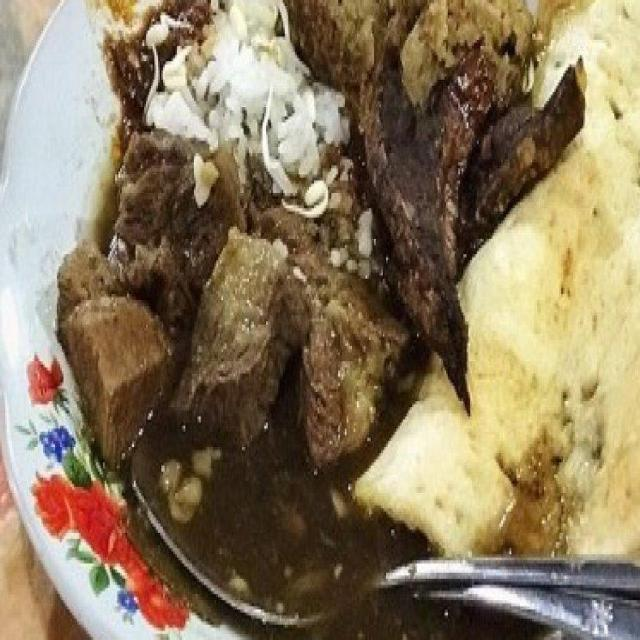Rawon: (48, 0, 596, 597)
